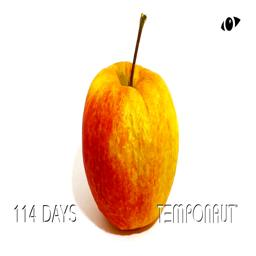Apple Semifresh: (79, 6, 182, 236)
